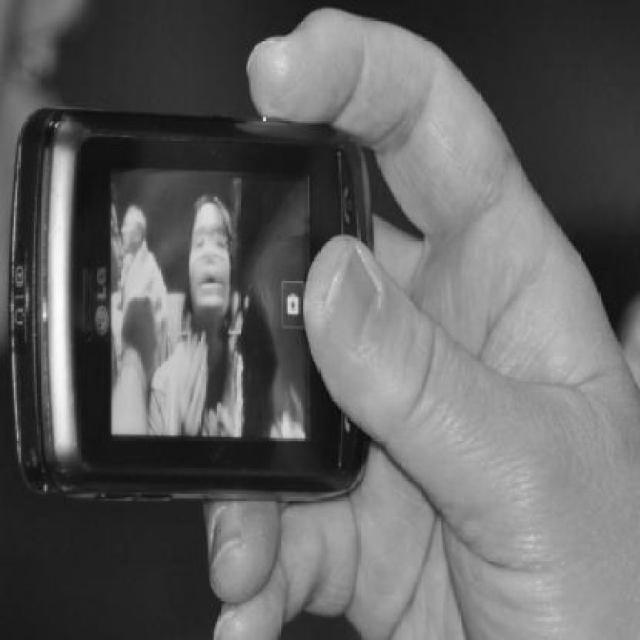fake: (0, 112, 412, 539)
